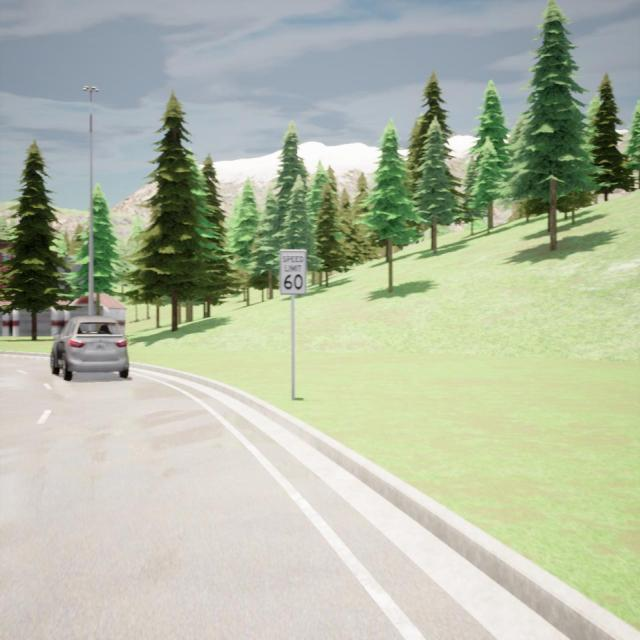Traffic_Signs: (280, 249, 306, 293)
Vehicle: (50, 315, 128, 380)
